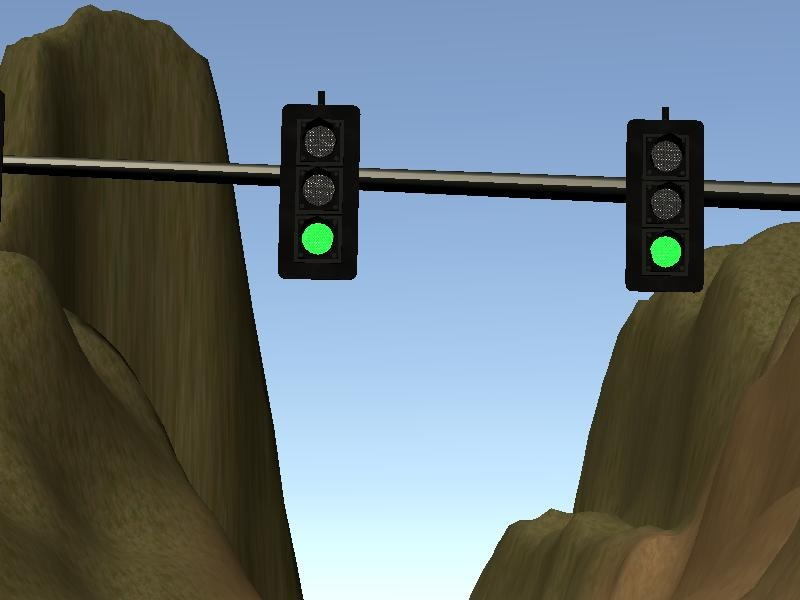GREEN: (278, 103, 360, 282), (624, 121, 704, 294)
